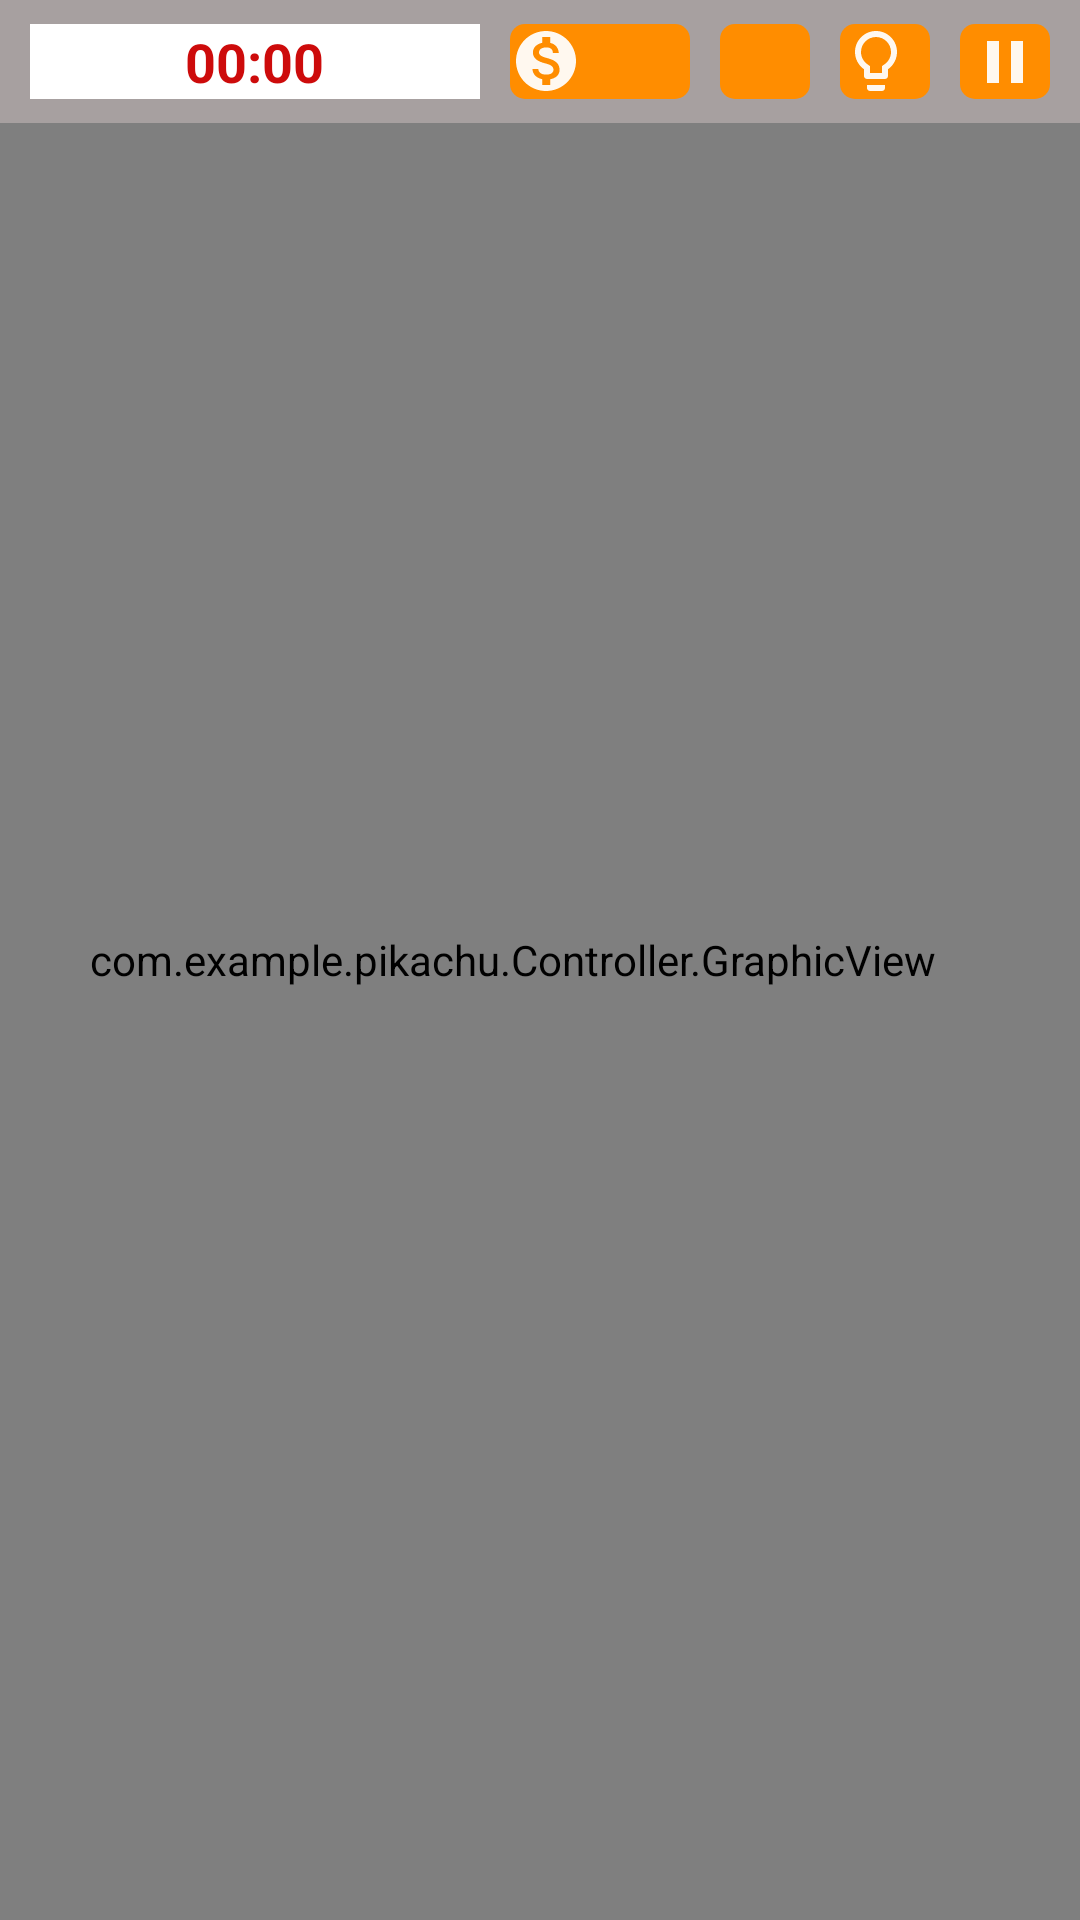

Named icons in this screenshot (1080x1920) and their centers, (x,y):
pause: (1005,61)
